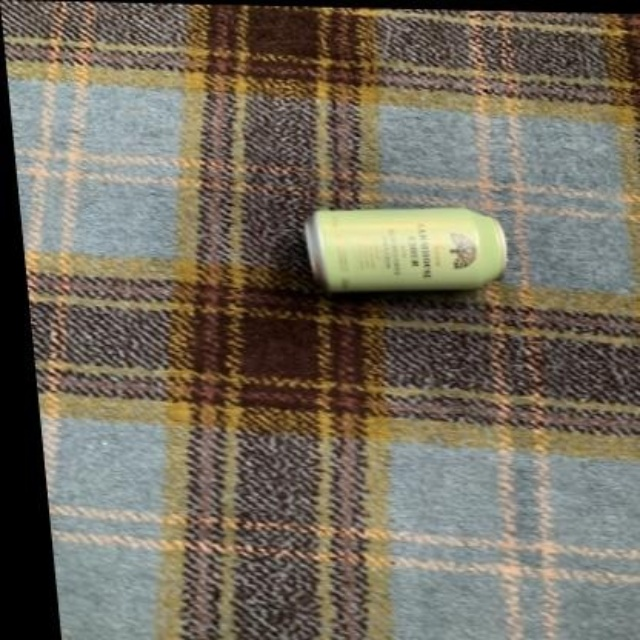trash: (305, 208, 505, 291)
